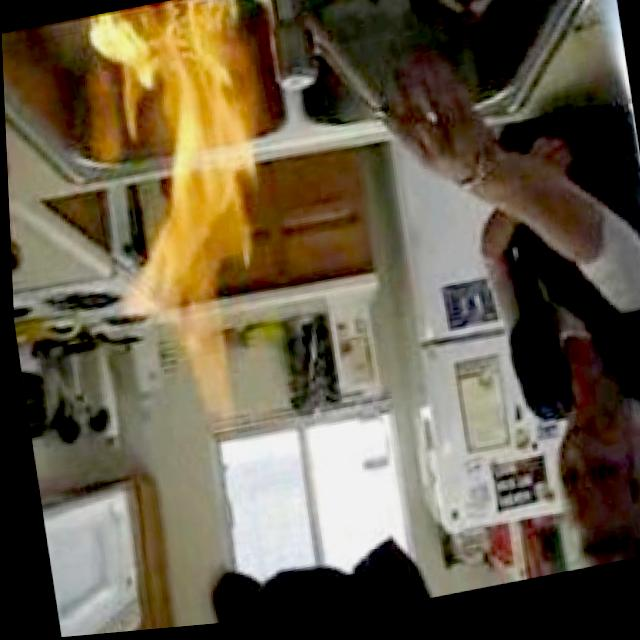Fire: (85, 0, 298, 473)
